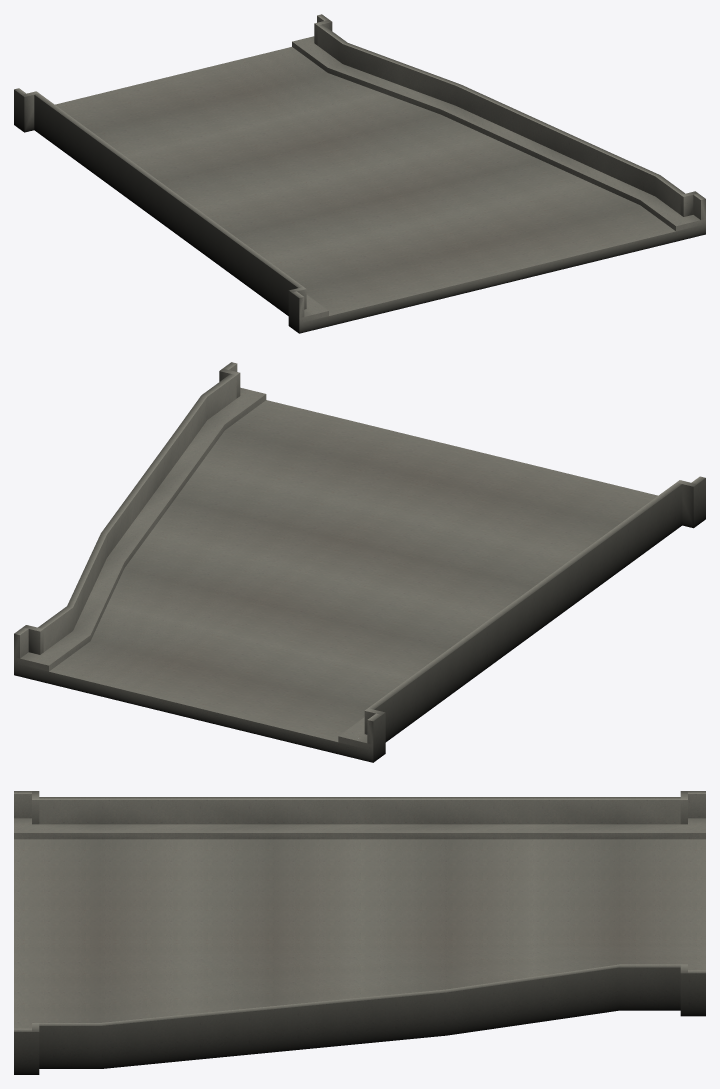
The model's file is TO_4RAIL_SONE.glb.
3 views of the same model, one above another, from view 1: azimuth 30°, elevation 25°; view 2: azimuth 150°, elevation 25°; view 3: azimuth 270°, elevation 25° (orthographic). The views are drawn at different scales.
Parts seen in each view (by area): view 1: obj4; view 2: obj4; view 3: obj4.
Boxes of the visible parts, <box> form: obj4: <box>14,14,705,333</box>; obj4: <box>14,362,705,762</box>; obj4: <box>14,791,705,1074</box>.
Bounding box in the file's own units: 82.35 × 6.88 × 100.
1 material, 1 textured.
